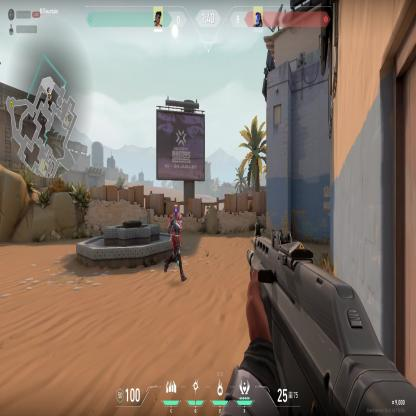enemy: (163, 202, 188, 284)
